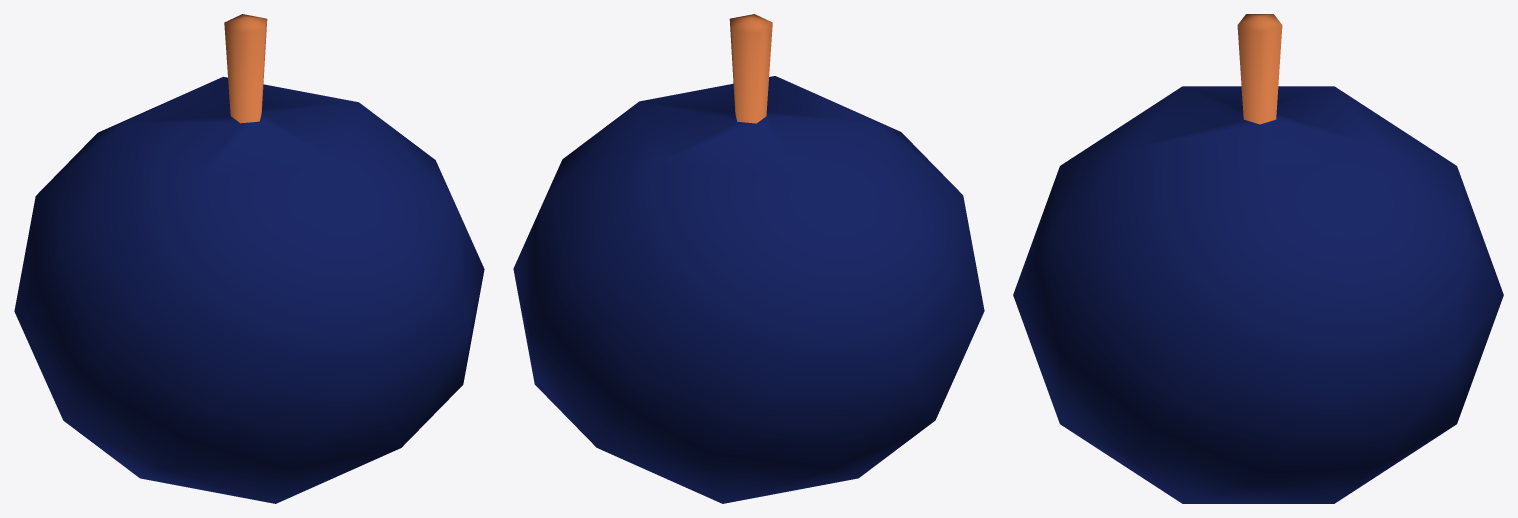
File: Blueberry.fbx
3 views of the same model, side by side, from view 1: azimuth 30°, elevation 25°; view 2: azimuth 150°, elevation 25°; view 3: azimuth 270°, elevation 25° (orthographic). The views are drawn at different scales.
Parts seen in each view (by area): view 1: Cube; view 2: Cube; view 3: Cube.
Part boxes in pixels (<box>): Cube: <box>14,14,484,503</box>; Cube: <box>513,14,984,503</box>; Cube: <box>1013,14,1503,503</box>.
Size of the model in its own units: 154 by 172 by 162.
